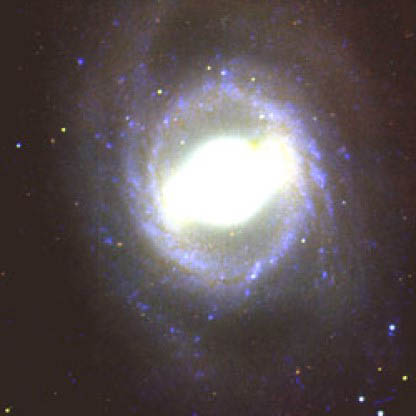Messier 95: (70, 17, 384, 370)
